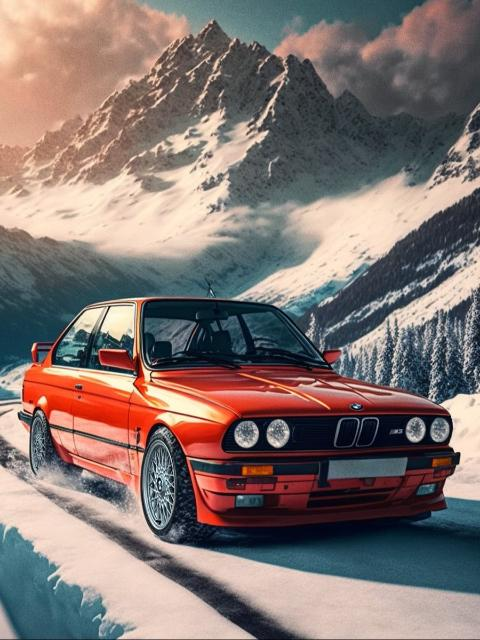bmw: (16, 296, 462, 544)
